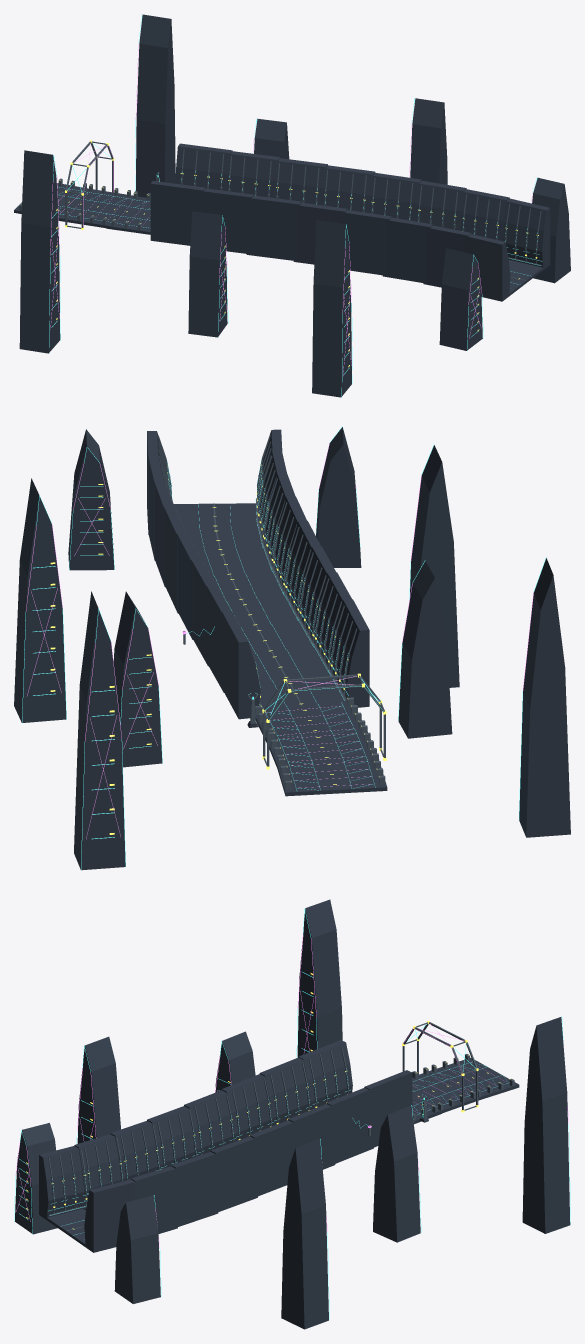
The model's file is route_batch_11.glb.
3 renders of one model, top to bottom at view 1: azimuth 30°, elevation 25°; view 2: azimuth 150°, elevation 25°; view 3: azimuth 270°, elevation 25°, orthographic. The views are drawn at different scales.
Parts seen in each view (by area): view 1: route_batch_11; view 2: route_batch_11; view 3: route_batch_11.
Part boxes in pixels (box(x1,y1,x2,y2)): route_batch_11: box(14, 14, 570, 397); route_batch_11: box(14, 426, 570, 870); route_batch_11: box(14, 899, 570, 1329).
Size of the model in its own units: 729 by 312 by 722.
